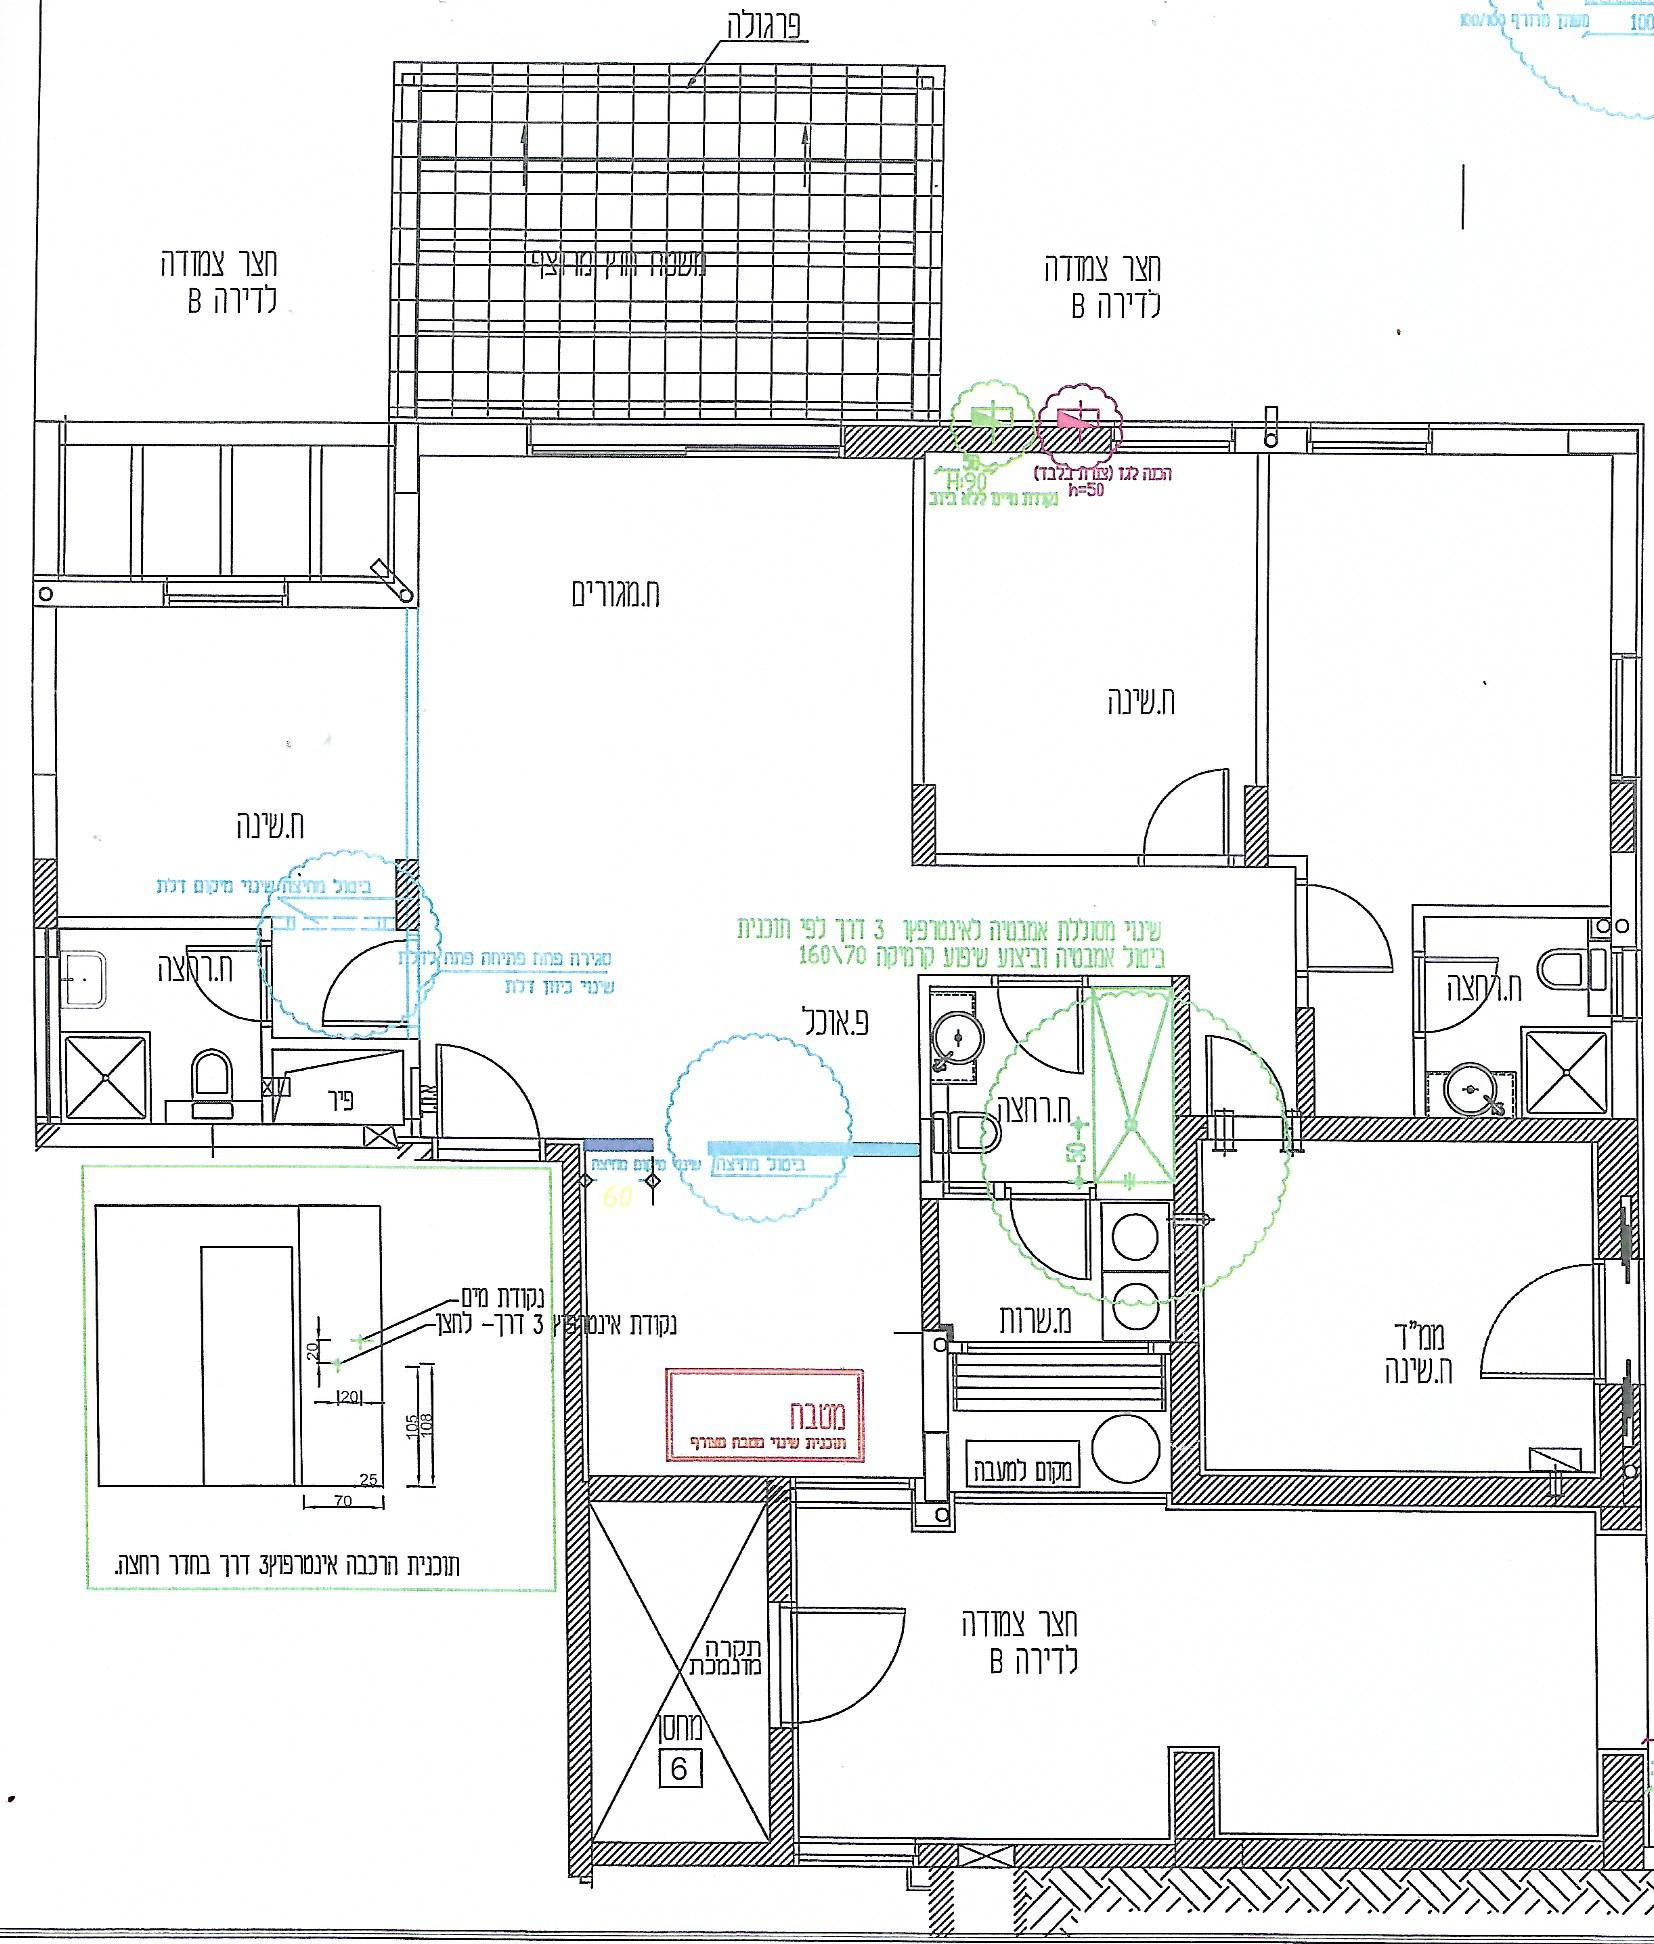door: (804, 1599, 909, 1731), (1475, 1262, 1585, 1380), (436, 1020, 545, 1130), (1313, 878, 1401, 971), (1140, 764, 1236, 842)
wall: (566, 1485, 592, 1878)
window: (162, 596, 290, 609), (1308, 443, 1431, 454), (1610, 656, 1621, 778)
